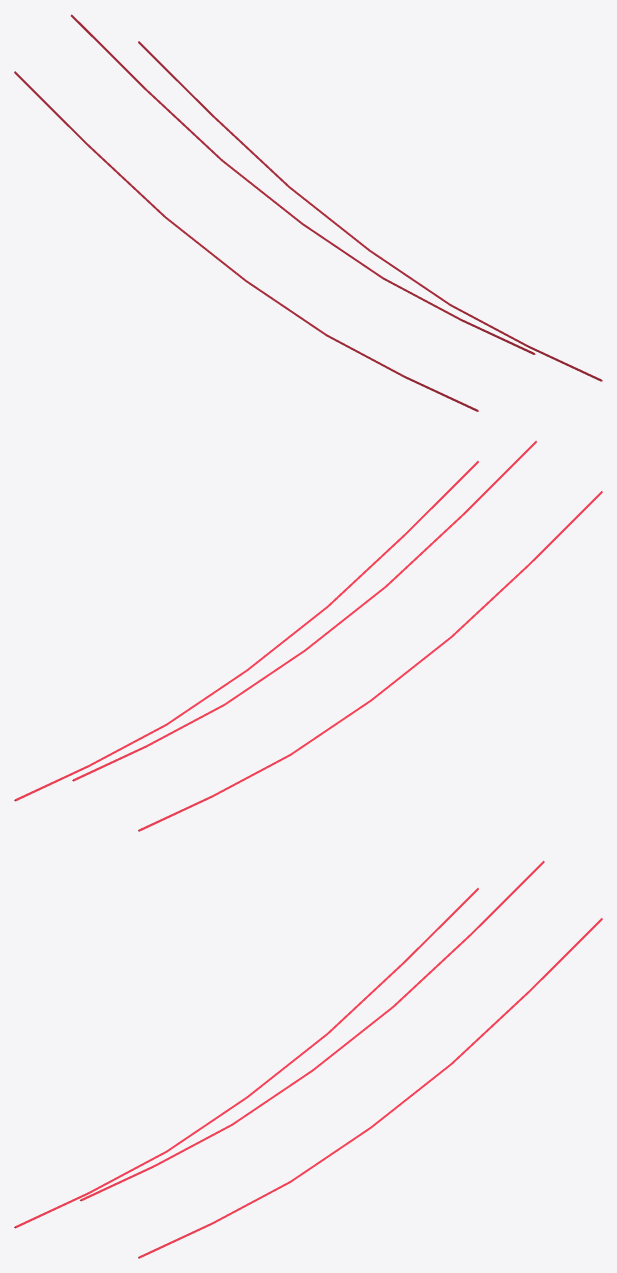
File: SM_Pole_Electric_Wire_10m_Tri.fbx
3 views of the same model, one above another, from view 1: azimuth 30°, elevation 25°; view 2: azimuth 150°, elevation 25°; view 3: azimuth 330°, elevation 25° (orthographic).
Parts seen in each view (by area): view 1: pole-electric-wire-10m-tri; view 2: pole-electric-wire-10m-tri; view 3: pole-electric-wire-10m-tri.
Boxes of the visible parts, bbox=[...] form: pole-electric-wire-10m-tri: bbox=[14, 14, 602, 411]; pole-electric-wire-10m-tri: bbox=[14, 440, 602, 831]; pole-electric-wire-10m-tri: bbox=[14, 860, 602, 1258].
Bounding box in the file's own units: 1.57 × 0.9494 × 10.1.
